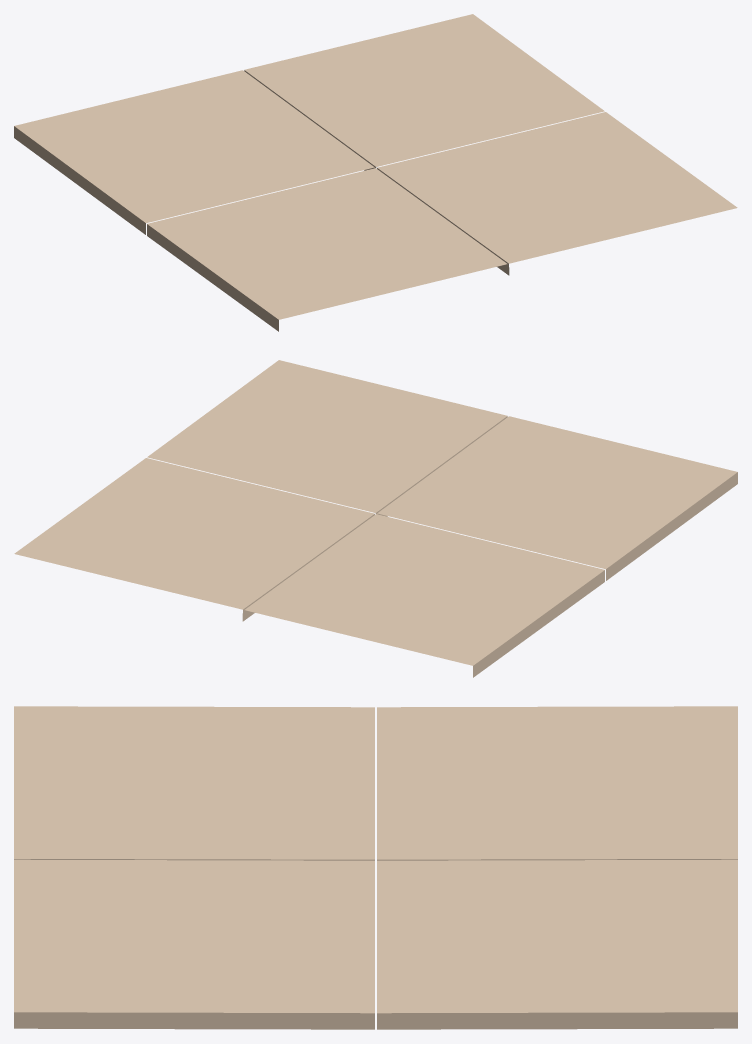
The model's file is ext_paving_plaza_01.glb.
The picture shows the model from 3 angles, top to bottom: view 1: azimuth 30°, elevation 25°; view 2: azimuth 150°, elevation 25°; view 3: azimuth 270°, elevation 25°; orthographic projection. The views are drawn at different scales.
Parts seen in each view (by area): view 1: Pavers; view 2: Pavers; view 3: Pavers.
Boxes of the visible parts, left/top/right/bottom form: Pavers: left=14, top=14, right=737, bottom=331; Pavers: left=14, top=360, right=737, bottom=677; Pavers: left=14, top=706, right=737, bottom=1029.
Size of the model in its own units: 1.99 by 0.0527 by 1.99.
